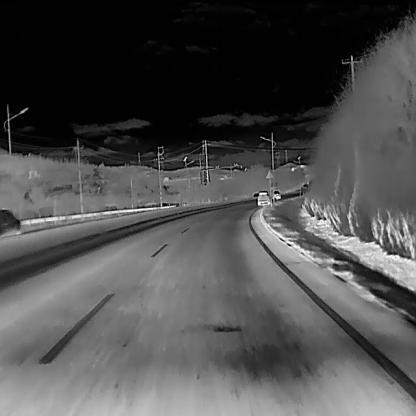car: (0, 207, 20, 233), (255, 190, 270, 206), (273, 189, 280, 199)
